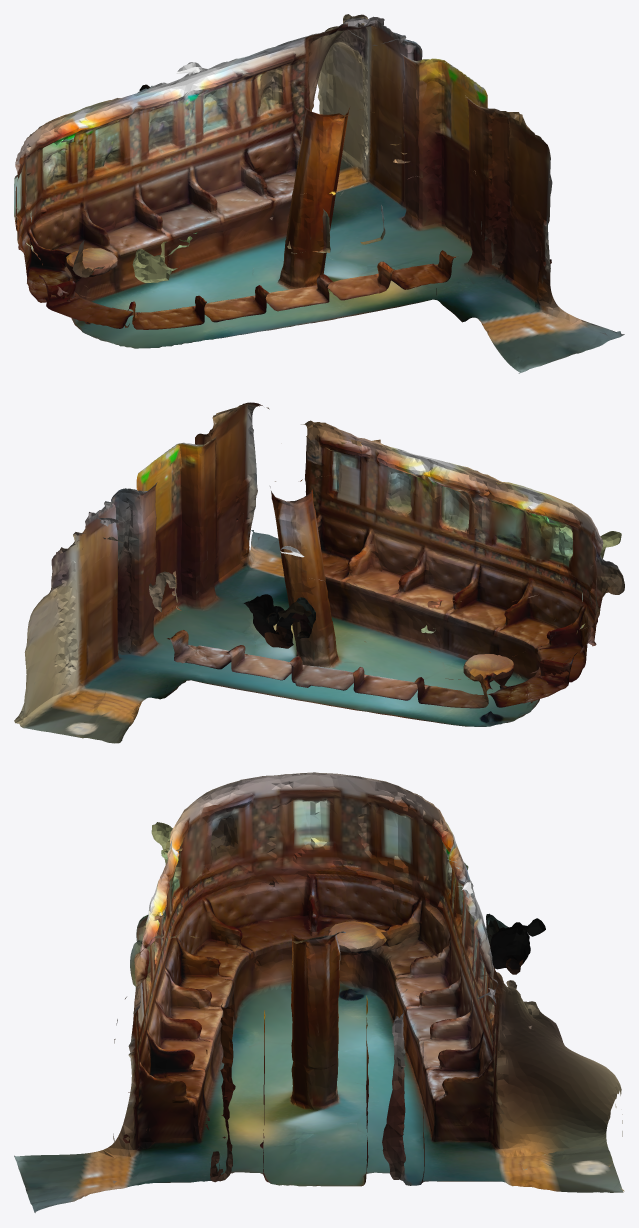
Rendered from yate launch.glb.
3 renders of one model, top to bottom at view 1: azimuth 30°, elevation 25°; view 2: azimuth 150°, elevation 25°; view 3: azimuth 270°, elevation 25°, orthographic. The views are drawn at different scales.
Parts seen in each view (by area): view 1: Mesh_0; view 2: Mesh_0; view 3: Mesh_0.
Part boxes in pixels (x1,y1,x2,y2): Mesh_0: (14,14,624,373); Mesh_0: (14,402,624,743); Mesh_0: (14,772,624,1212).
Bounding box in the file's own units: 5.87 × 2.26 × 6.
Materials: 1 (1 with a texture image).
